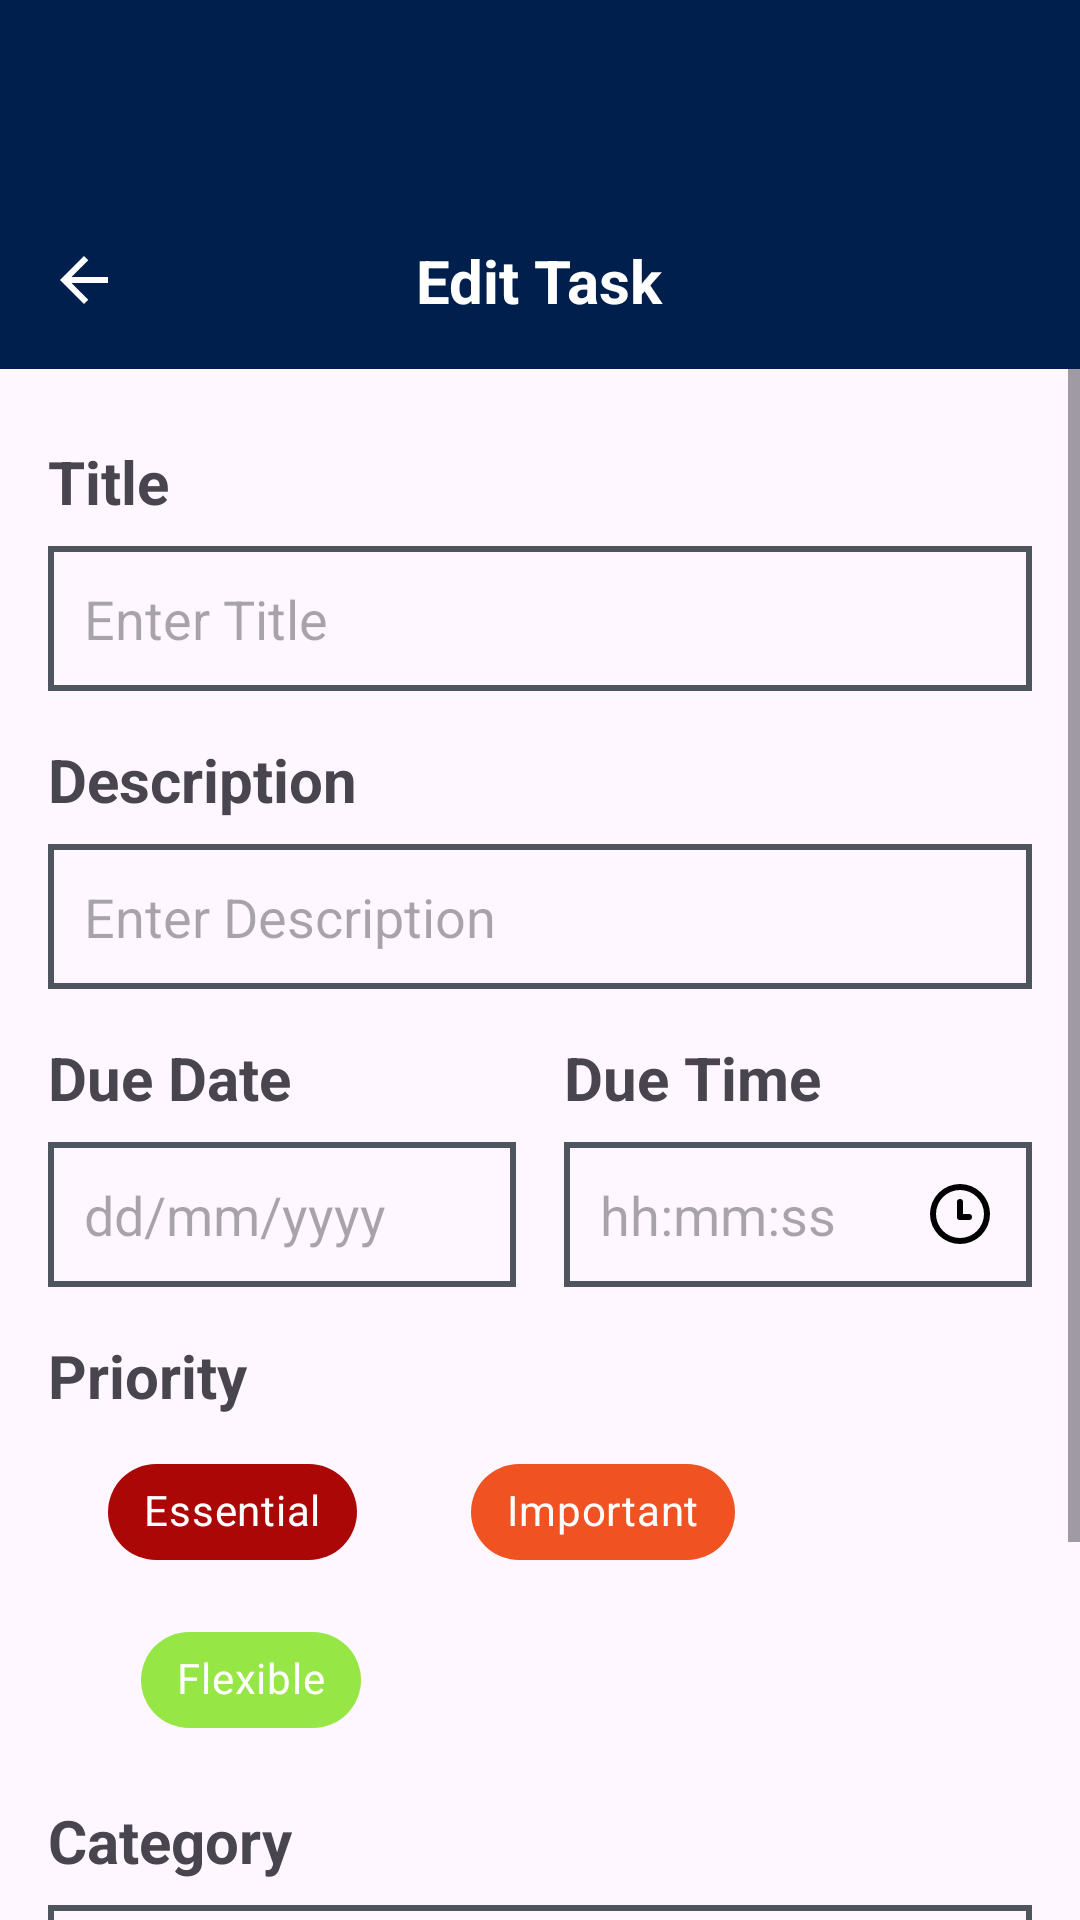

Point at icon controls on the screen. Image size 1080 × 1920, points as (x,y).
arrow back: (84,280)
